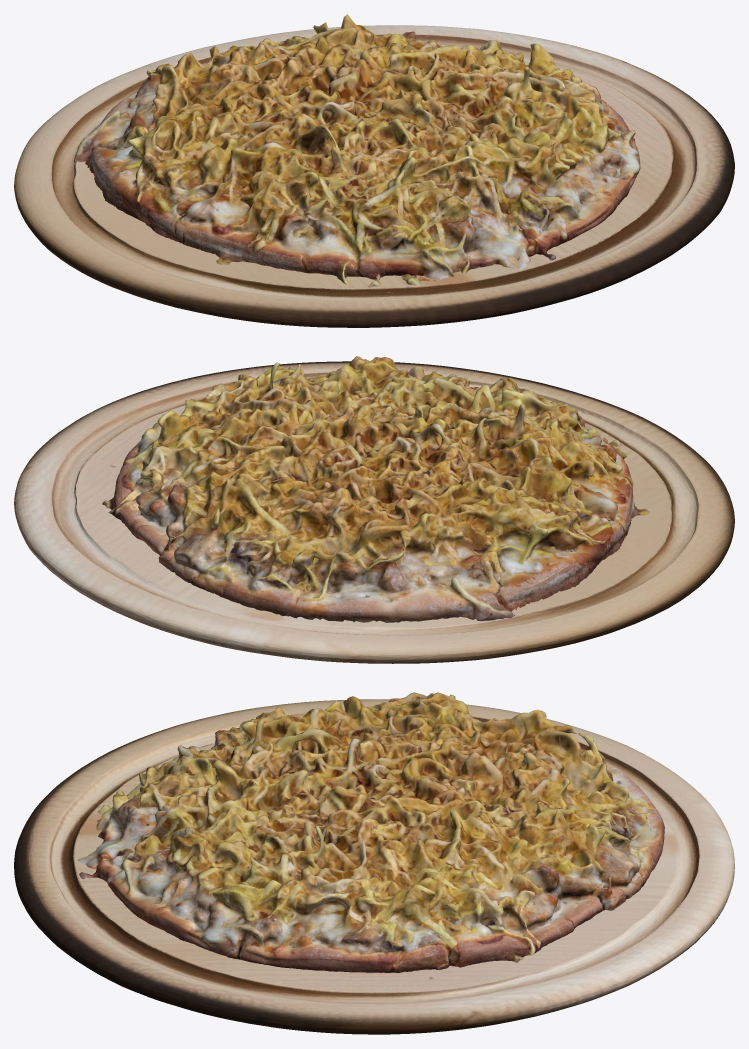
File: pizza.havik.glb
3 views of the same model, one above another, from view 1: azimuth 30°, elevation 25°; view 2: azimuth 150°, elevation 25°; view 3: azimuth 270°, elevation 25° (orthographic). The views are drawn at different scales.
Parts seen in each view (by area): view 1: 3DModel.001, world.004; view 2: 3DModel.001, world.004; view 3: 3DModel.001, world.004.
Boxes of the visible parts, <box> form: 3DModel.001: <box>74,14,640,287</box>; world.004: <box>14,25,734,327</box>; 3DModel.001: <box>102,356,649,622</box>; world.004: <box>14,361,734,663</box>; 3DModel.001: <box>77,692,664,972</box>; world.004: <box>14,699,734,1034</box>.
Size of the model in its own units: 0.441 by 0.0724 by 0.4116.
2 materials, 2 textured.
